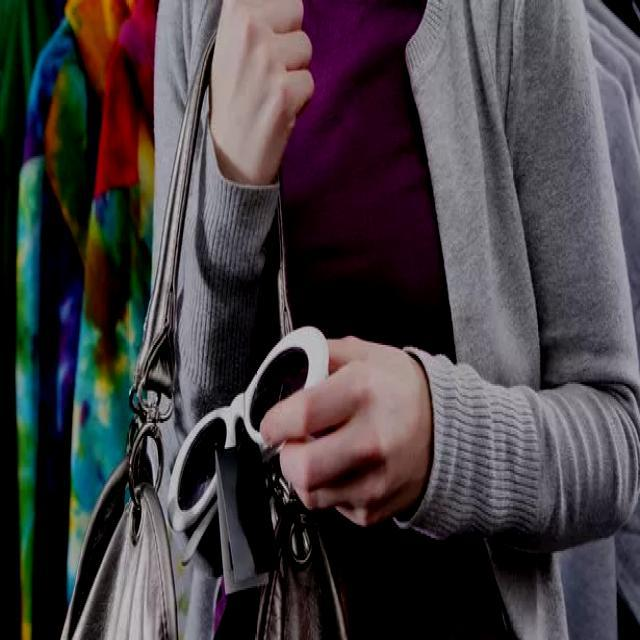shoplifting: (79, 205, 481, 637), (83, 210, 478, 621)
